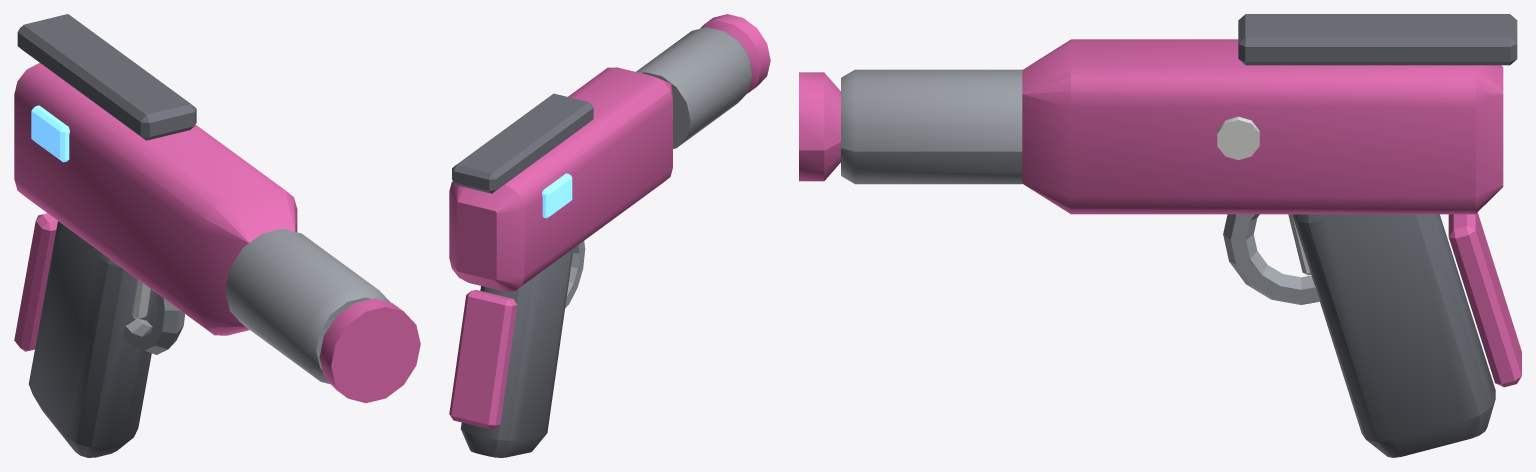
Rendered from laser-tag-arena-and-activity-centre-laser-tag-phaser-e70e246d__34489.glb.
The picture shows the model from 3 angles, left to right: view 1: azimuth 30°, elevation 25°; view 2: azimuth 150°, elevation 25°; view 3: azimuth 270°, elevation 25°; orthographic projection. The views are drawn at different scales.
Visible parts, largest first — view 1: laser-tag-phaser; view 2: laser-tag-phaser; view 3: laser-tag-phaser.
Part boxes in pixels (left/top/right/bottom): laser-tag-phaser: left=14, top=14, right=420, bottom=457; laser-tag-phaser: left=449, top=14, right=770, bottom=457; laser-tag-phaser: left=799, top=14, right=1521, bottom=457.
Size of the model in its own units: 0.097 by 0.3355 by 0.5182.
